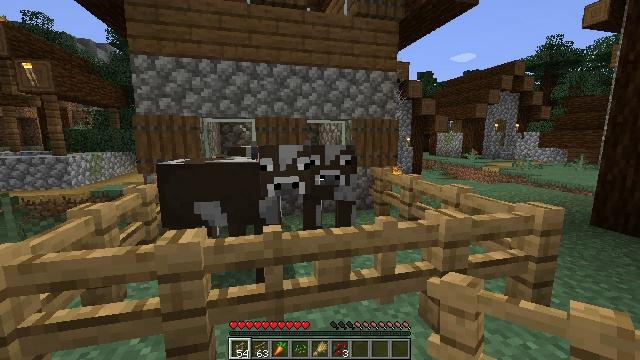cow: (158, 145, 305, 267), (304, 145, 356, 247)
